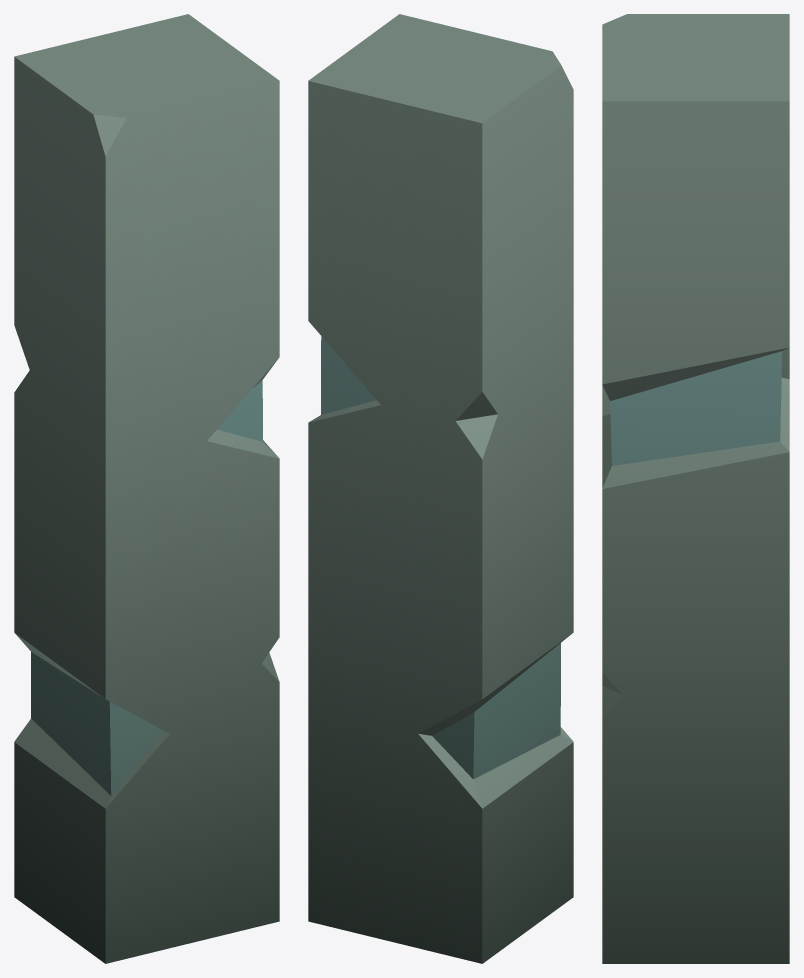
File: wall_001.fbx
The picture shows the model from 3 angles, left to right: view 1: azimuth 30°, elevation 25°; view 2: azimuth 150°, elevation 25°; view 3: azimuth 270°, elevation 25°; orthographic projection. The views are drawn at different scales.
Parts seen in each view (by area): view 1: wall.001; view 2: wall.001; view 3: wall.001.
Part boxes in pixels (left/top/right/bottom): wall.001: left=14, top=14, right=279, bottom=963; wall.001: left=308, top=14, right=573, bottom=963; wall.001: left=602, top=14, right=789, bottom=963.
Size of the model in its own units: 87.5 by 403 by 79.45.
